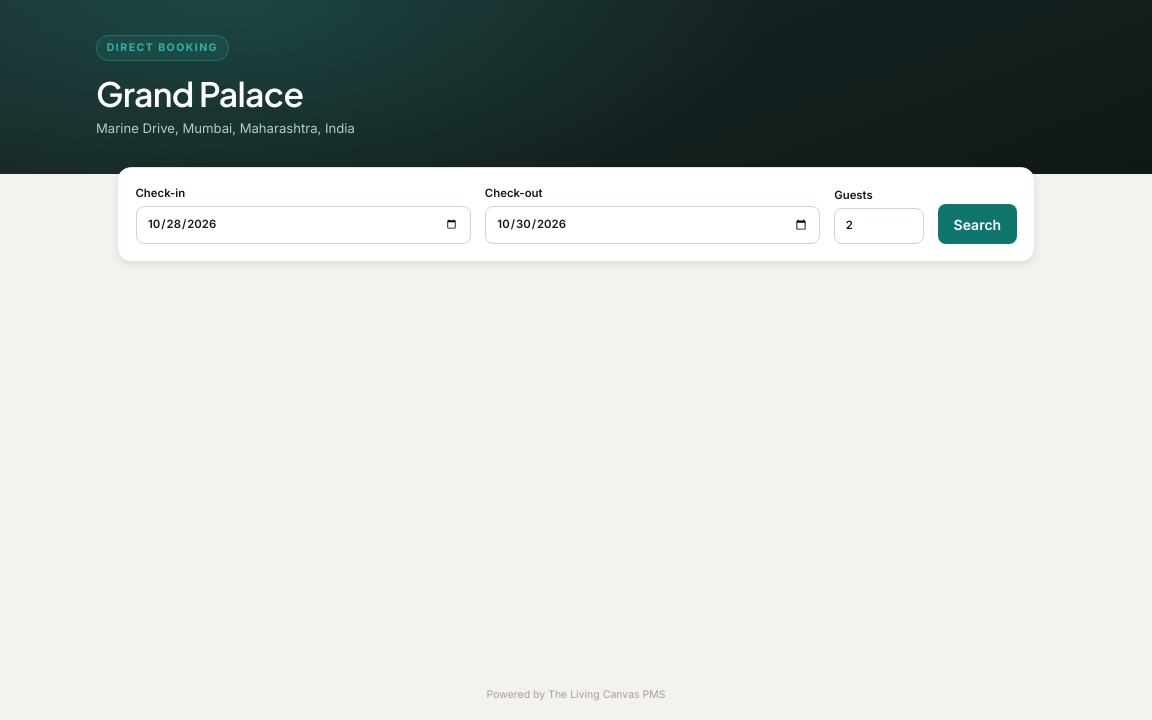
Scenario: BookingPage › loads the property and runs a full search → select → book flow
Check: the heading "Grand Palace" is shown, box [96,72,303,114]
Click the button "Search" at (977, 224), box [938,204,1016,244]
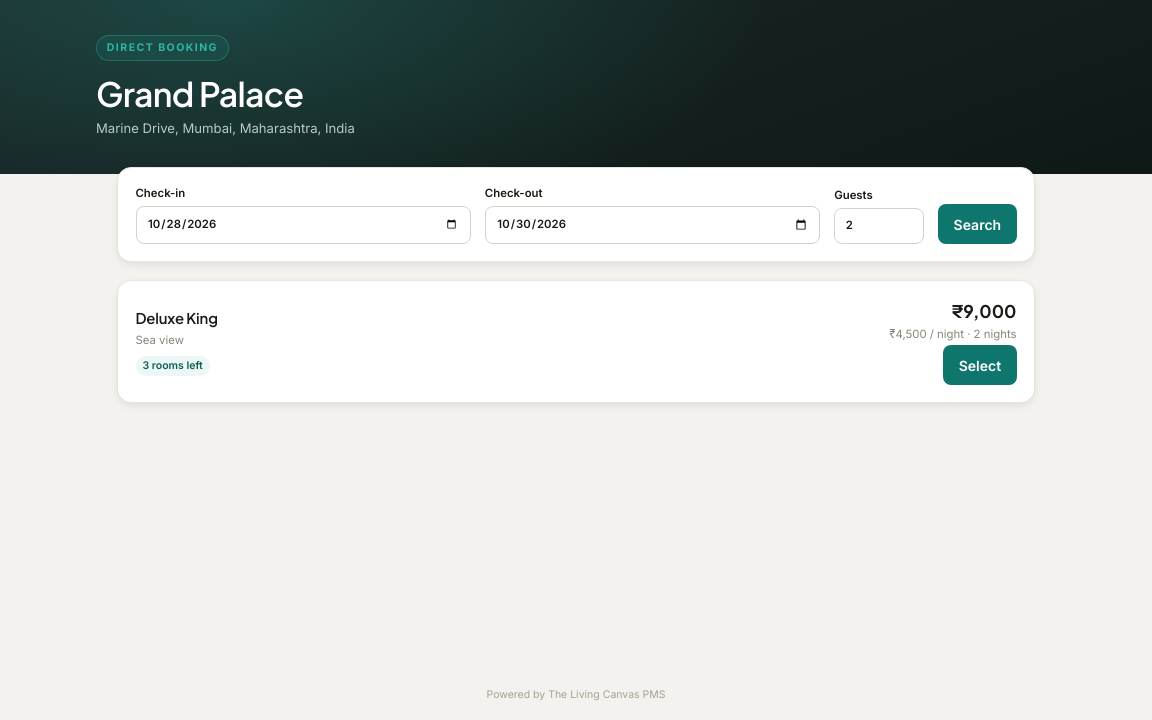
Check: the heading "Deluxe King" is shown, box [136,306,218,329]
Check: the text "3 rooms left" is shown, box [136,356,210,376]
Note: Select the room → guest form appears.
Click the button "Select" at (980, 365), box [943,346,1016,385]
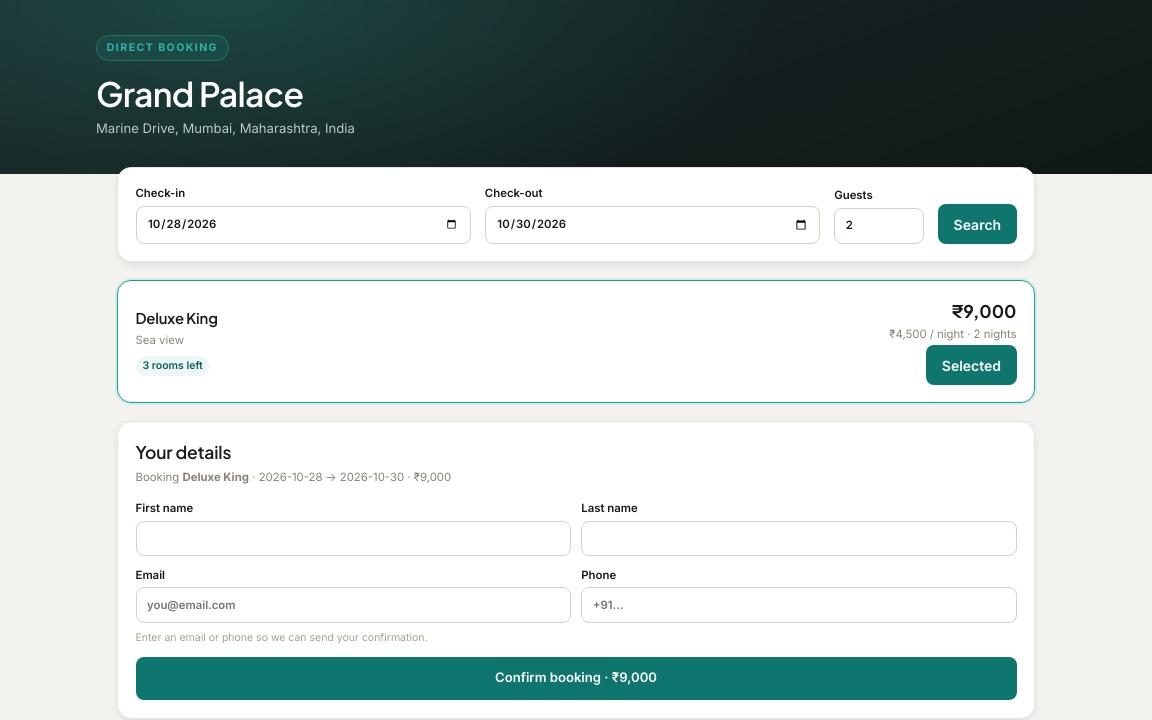
Check: the heading "Your details" is shown, box [136,441,231,463]
Note: Fill guest + confirm.
Type "Grace" into the field labelled "First name" at (353, 538), box [136,520,571,556]
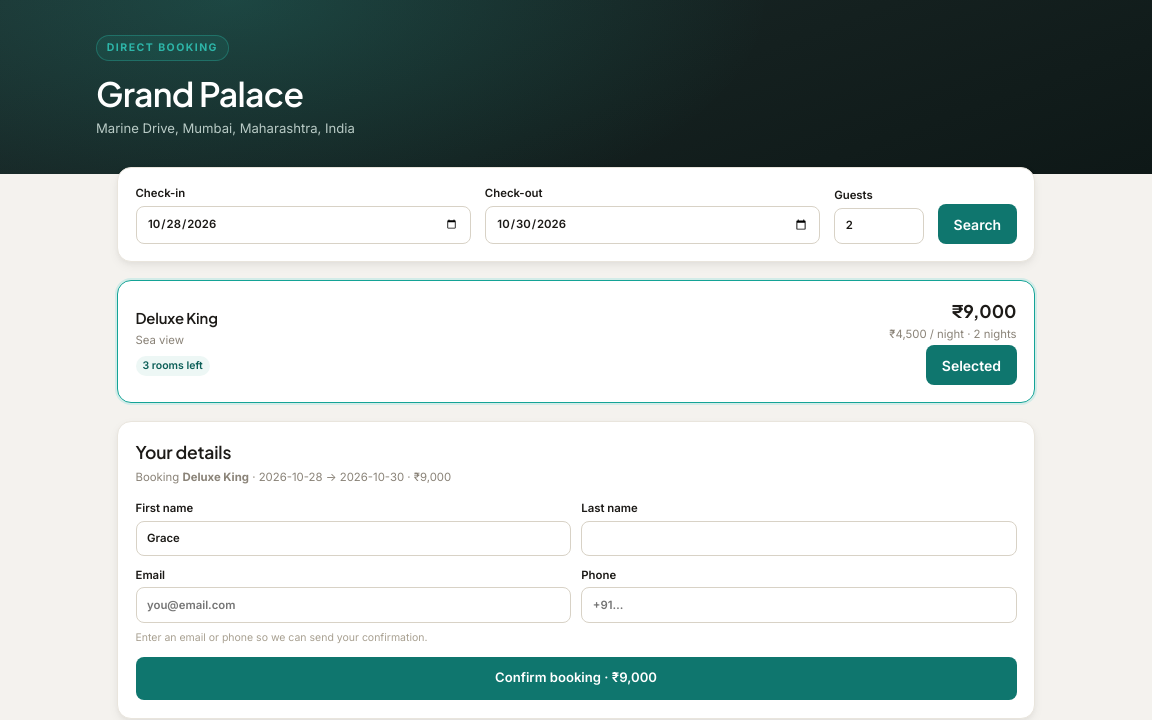
Type "Hopper" into the field labelled "Last name" at (799, 538), box [581,520,1017,556]
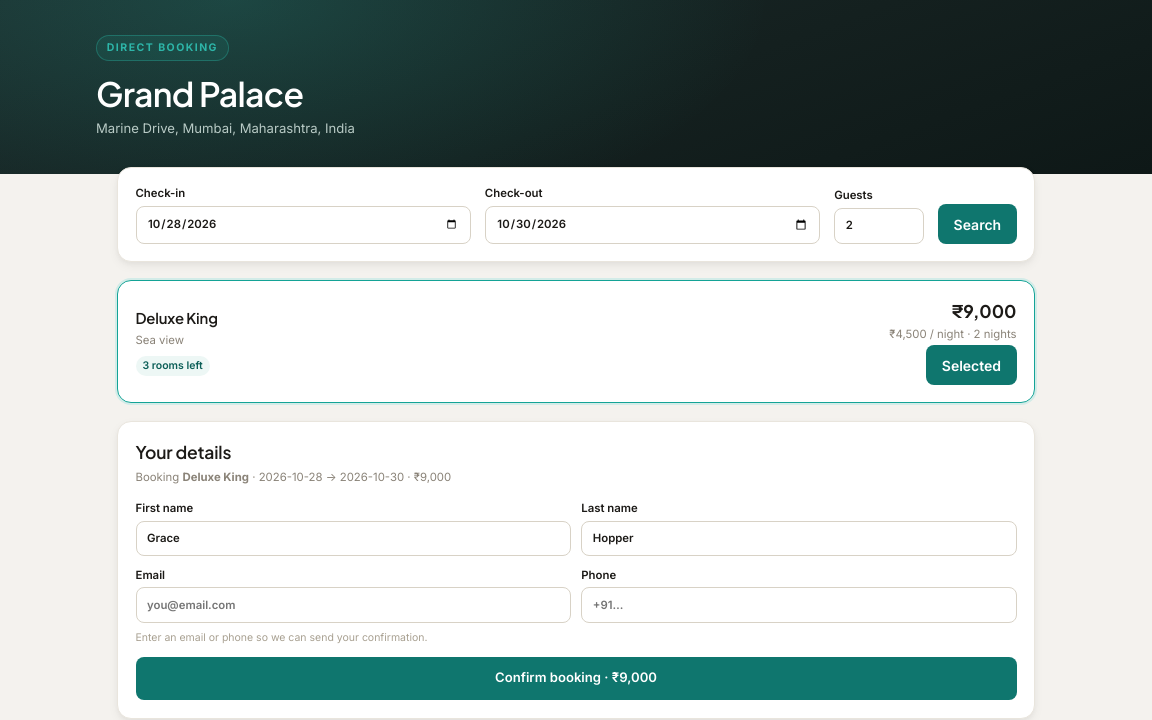
Type "grace@example.com" into the field labelled "Email" at (353, 605), box [136,588,571,623]
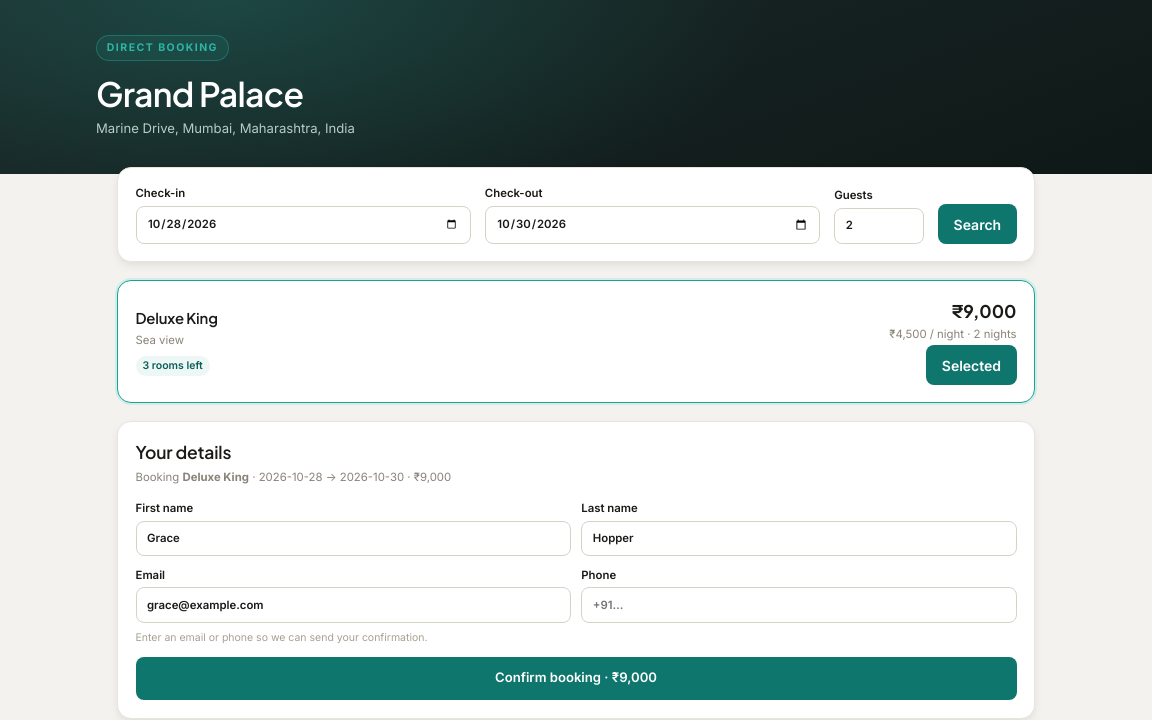
Click the button "Confirm booking · ₹9,000" at (576, 678), box [136,656,1016,700]
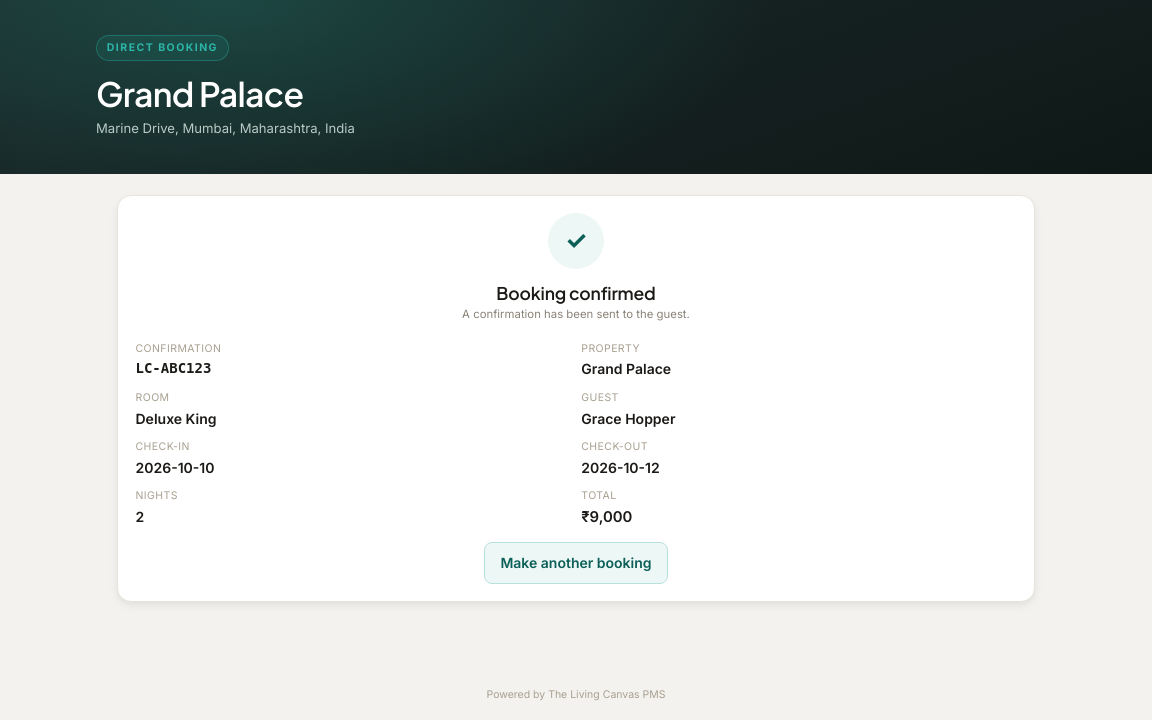
Check: the heading "Booking confirmed" is shown, box [496,282,656,304]
Check: the text "LC-ABC123" is shown, box [136,360,211,376]
